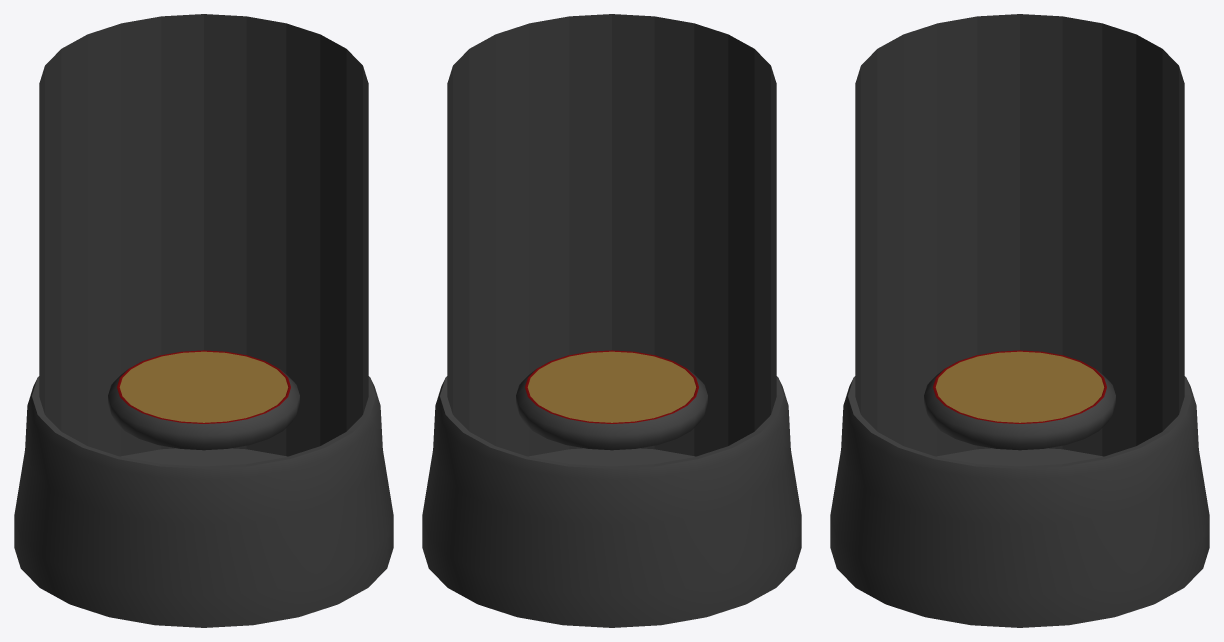
File: obj_arenaSumo.fbx
3 views of the same model, side by side, from view 1: azimuth 30°, elevation 25°; view 2: azimuth 150°, elevation 25°; view 3: azimuth 270°, elevation 25° (orthographic).
Parts seen in each view (by area): view 1: obj_containerSumo, obj_environment, obj_arenaSumo_001; view 2: obj_containerSumo, obj_environment, obj_arenaSumo_001; view 3: obj_containerSumo, obj_environment, obj_arenaSumo_001.
Boxes of the visible parts, x1,y1,x2,y2 form: obj_containerSumo: (39,14,368,456); obj_environment: (14,376,393,627); obj_arenaSumo_001: (108,350,299,450); obj_containerSumo: (447,14,776,456); obj_environment: (422,376,801,627); obj_arenaSumo_001: (516,350,707,450); obj_containerSumo: (855,14,1184,456); obj_environment: (830,376,1209,627); obj_arenaSumo_001: (924,350,1115,450).
Size of the model in its own units: 65.95 by 89.06 by 65.95.
